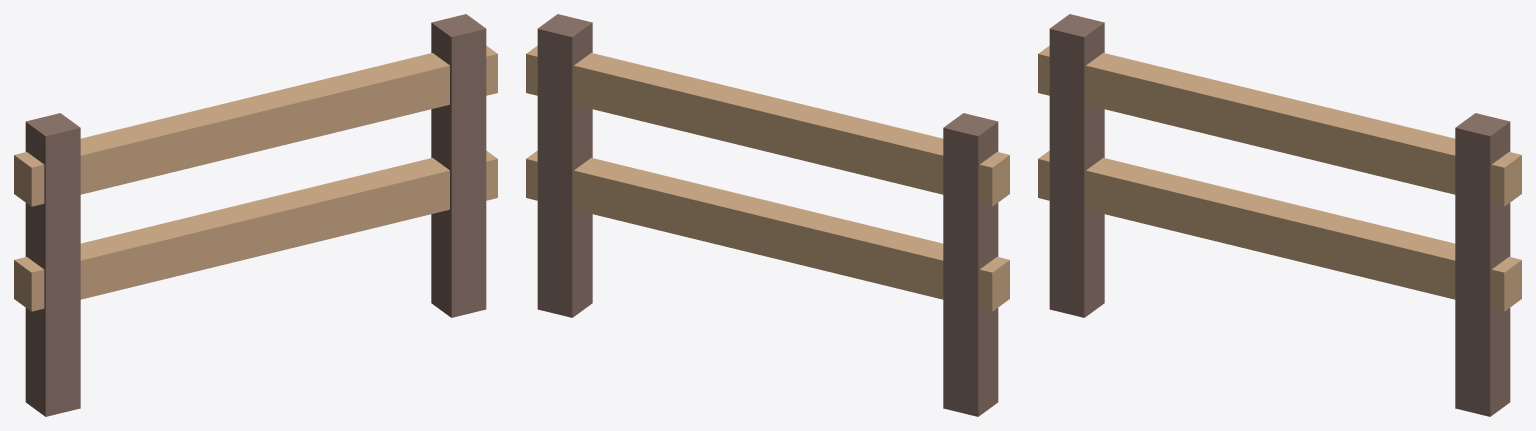
Rendered from field_fence_2m.glb.
3 renders of one model, left to right at view 1: azimuth 30°, elevation 25°; view 2: azimuth 150°, elevation 25°; view 3: azimuth 330°, elevation 25°, orthographic.
Visible parts, largest first — view 1: wood_light, wood_dark; view 2: wood_light, wood_dark; view 3: wood_light, wood_dark.
Boxes of the visible parts, box(x1,y1,x2,y2) form: wood_light: box(14, 45, 497, 311); wood_dark: box(25, 14, 486, 416); wood_light: box(526, 45, 1009, 311); wood_dark: box(537, 14, 998, 416); wood_light: box(1038, 45, 1521, 311); wood_dark: box(1049, 14, 1510, 416).
Size of the model in its own units: 2 by 1.15 by 0.15.
